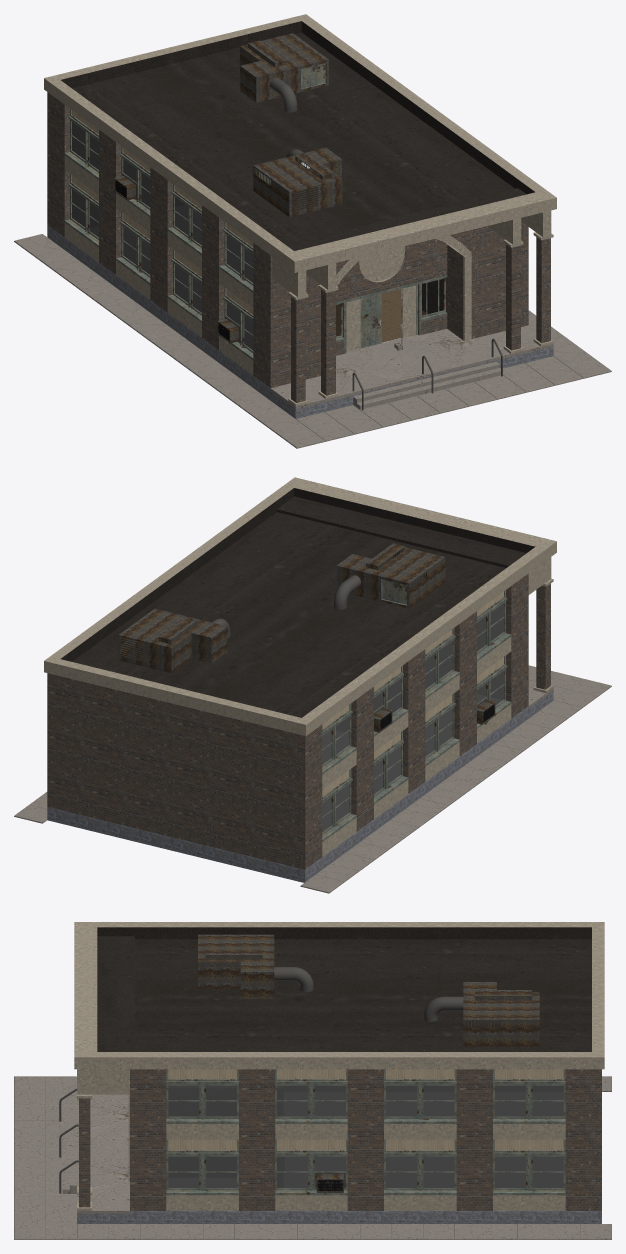
Rendered from downtown_02.glb.
3 renders of one model, top to bottom at view 1: azimuth 30°, elevation 25°; view 2: azimuth 150°, elevation 25°; view 3: azimuth 270°, elevation 25°, orthographic. The views are drawn at different scales.
Visible parts, largest first — view 1: Material2 (×12); view 2: Material2 (×10); view 3: Material2 (×10).
Boxes of the visible parts, x1,y1,x2,y2 form: Material2 (×12): (14, 14, 611, 448); Material2 (×10): (14, 477, 611, 893); Material2 (×10): (14, 922, 611, 1239).
Bounding box in the file's own units: 587 × 317 × 912.
Materials: 20 (13 with a texture image).
